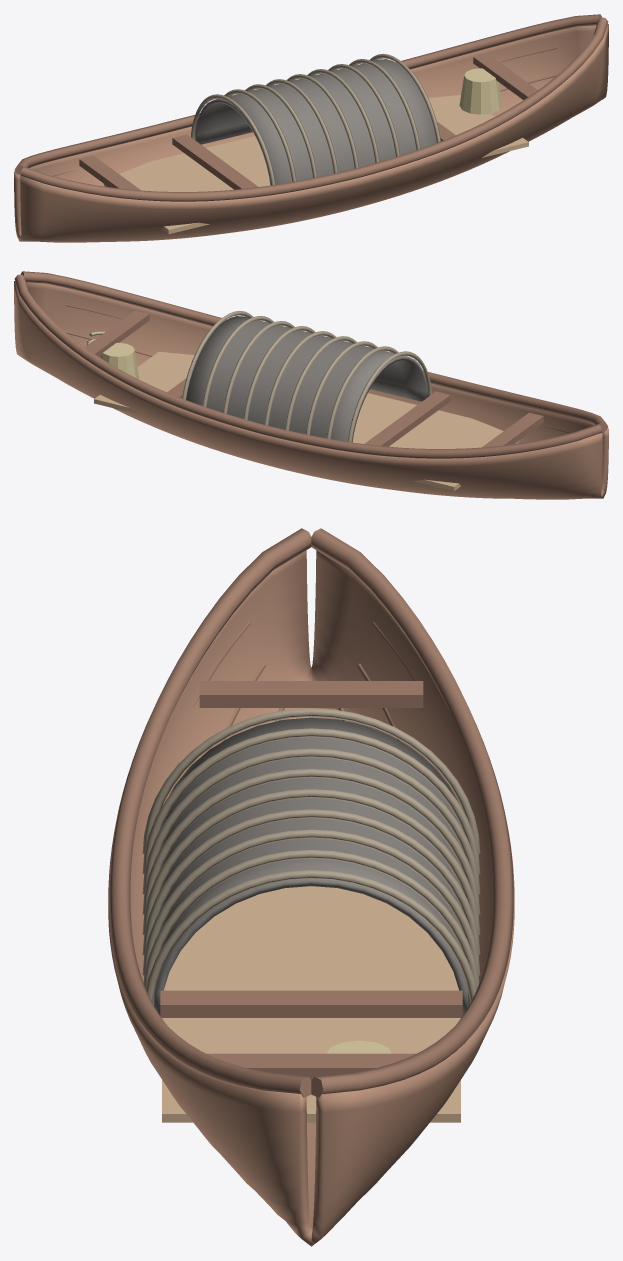
The model's file is boat_empty.glb.
3 renders of one model, top to bottom at view 1: azimuth 30°, elevation 25°; view 2: azimuth 150°, elevation 25°; view 3: azimuth 270°, elevation 25°, orthographic. The views are drawn at different scales.
Visible parts, largest first — view 1: boat; view 2: boat; view 3: boat.
Boxes of the visible parts, bbox=[...] form: boat: bbox=[14, 14, 608, 242]; boat: bbox=[14, 271, 608, 499]; boat: bbox=[108, 528, 514, 1246].
Bounding box in the file's own units: 5.68 × 1.14 × 1.7.
